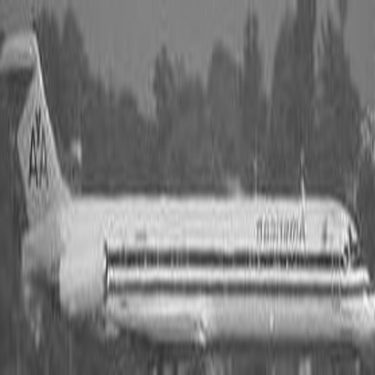airplane: (3, 2, 371, 370)
